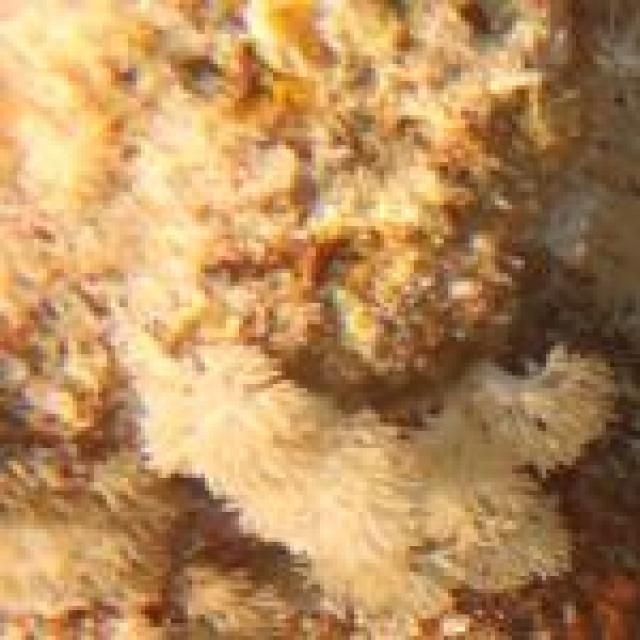Bleached Coral: (98, 340, 640, 640)
